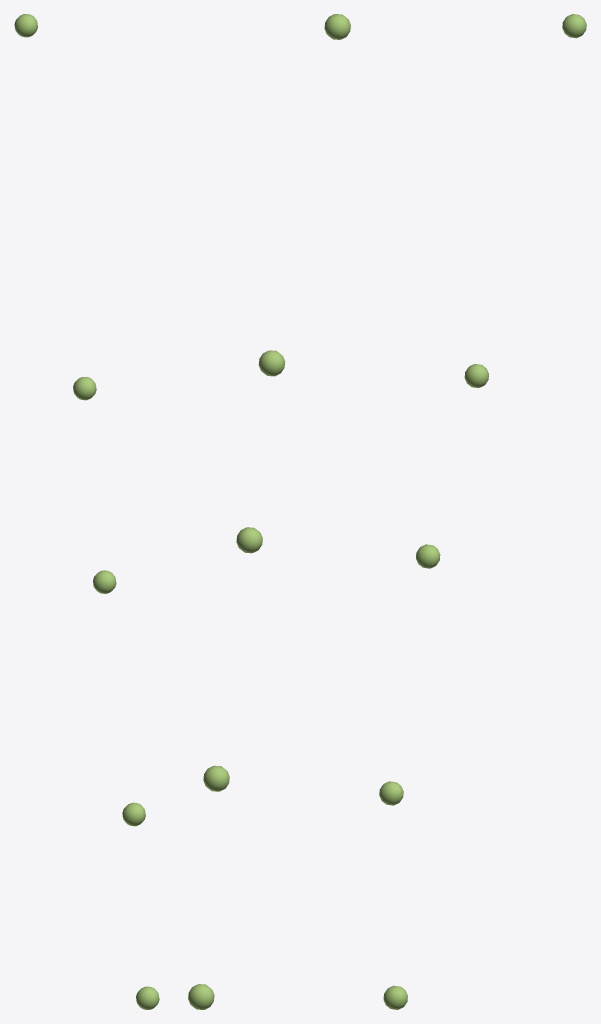
The model's file is retro-aortic-nodes.glb.
3 views of the same model, side by side, from view 1: azimuth 30°, elevation 25°; view 2: azimuth 210°, elevation 25°; view 3: azimuth 270°, elevation 25° (orthographic). The views are drawn at different scales.
Parts seen in each view (by area): view 1: Retro-aortic nodes; view 2: Retro-aortic nodes; view 3: Retro-aortic nodes.
Boxes of the visible parts, <box> form: Retro-aortic nodes: <box>14,14,159,1009</box>; Retro-aortic nodes: <box>188,14,350,1009</box>; Retro-aortic nodes: <box>379,14,586,1009</box>.
Bounding box in the file's own units: 0.00702 × 0.113 × 0.0218.
